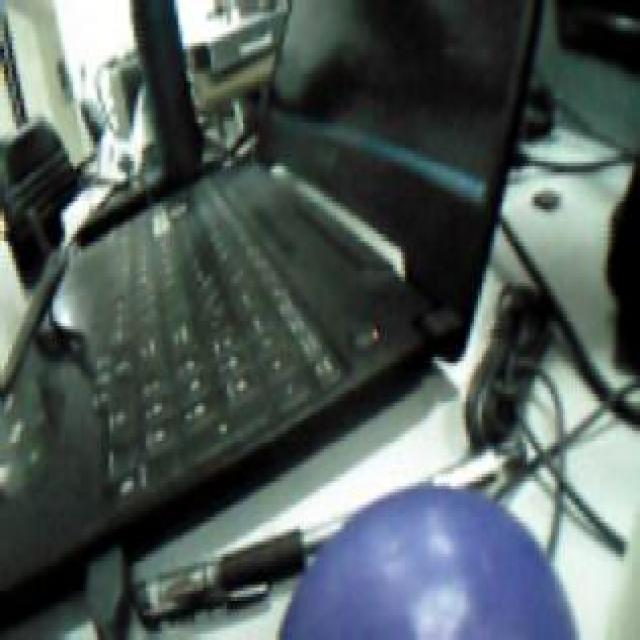BallPurple: (280, 483, 575, 640)
